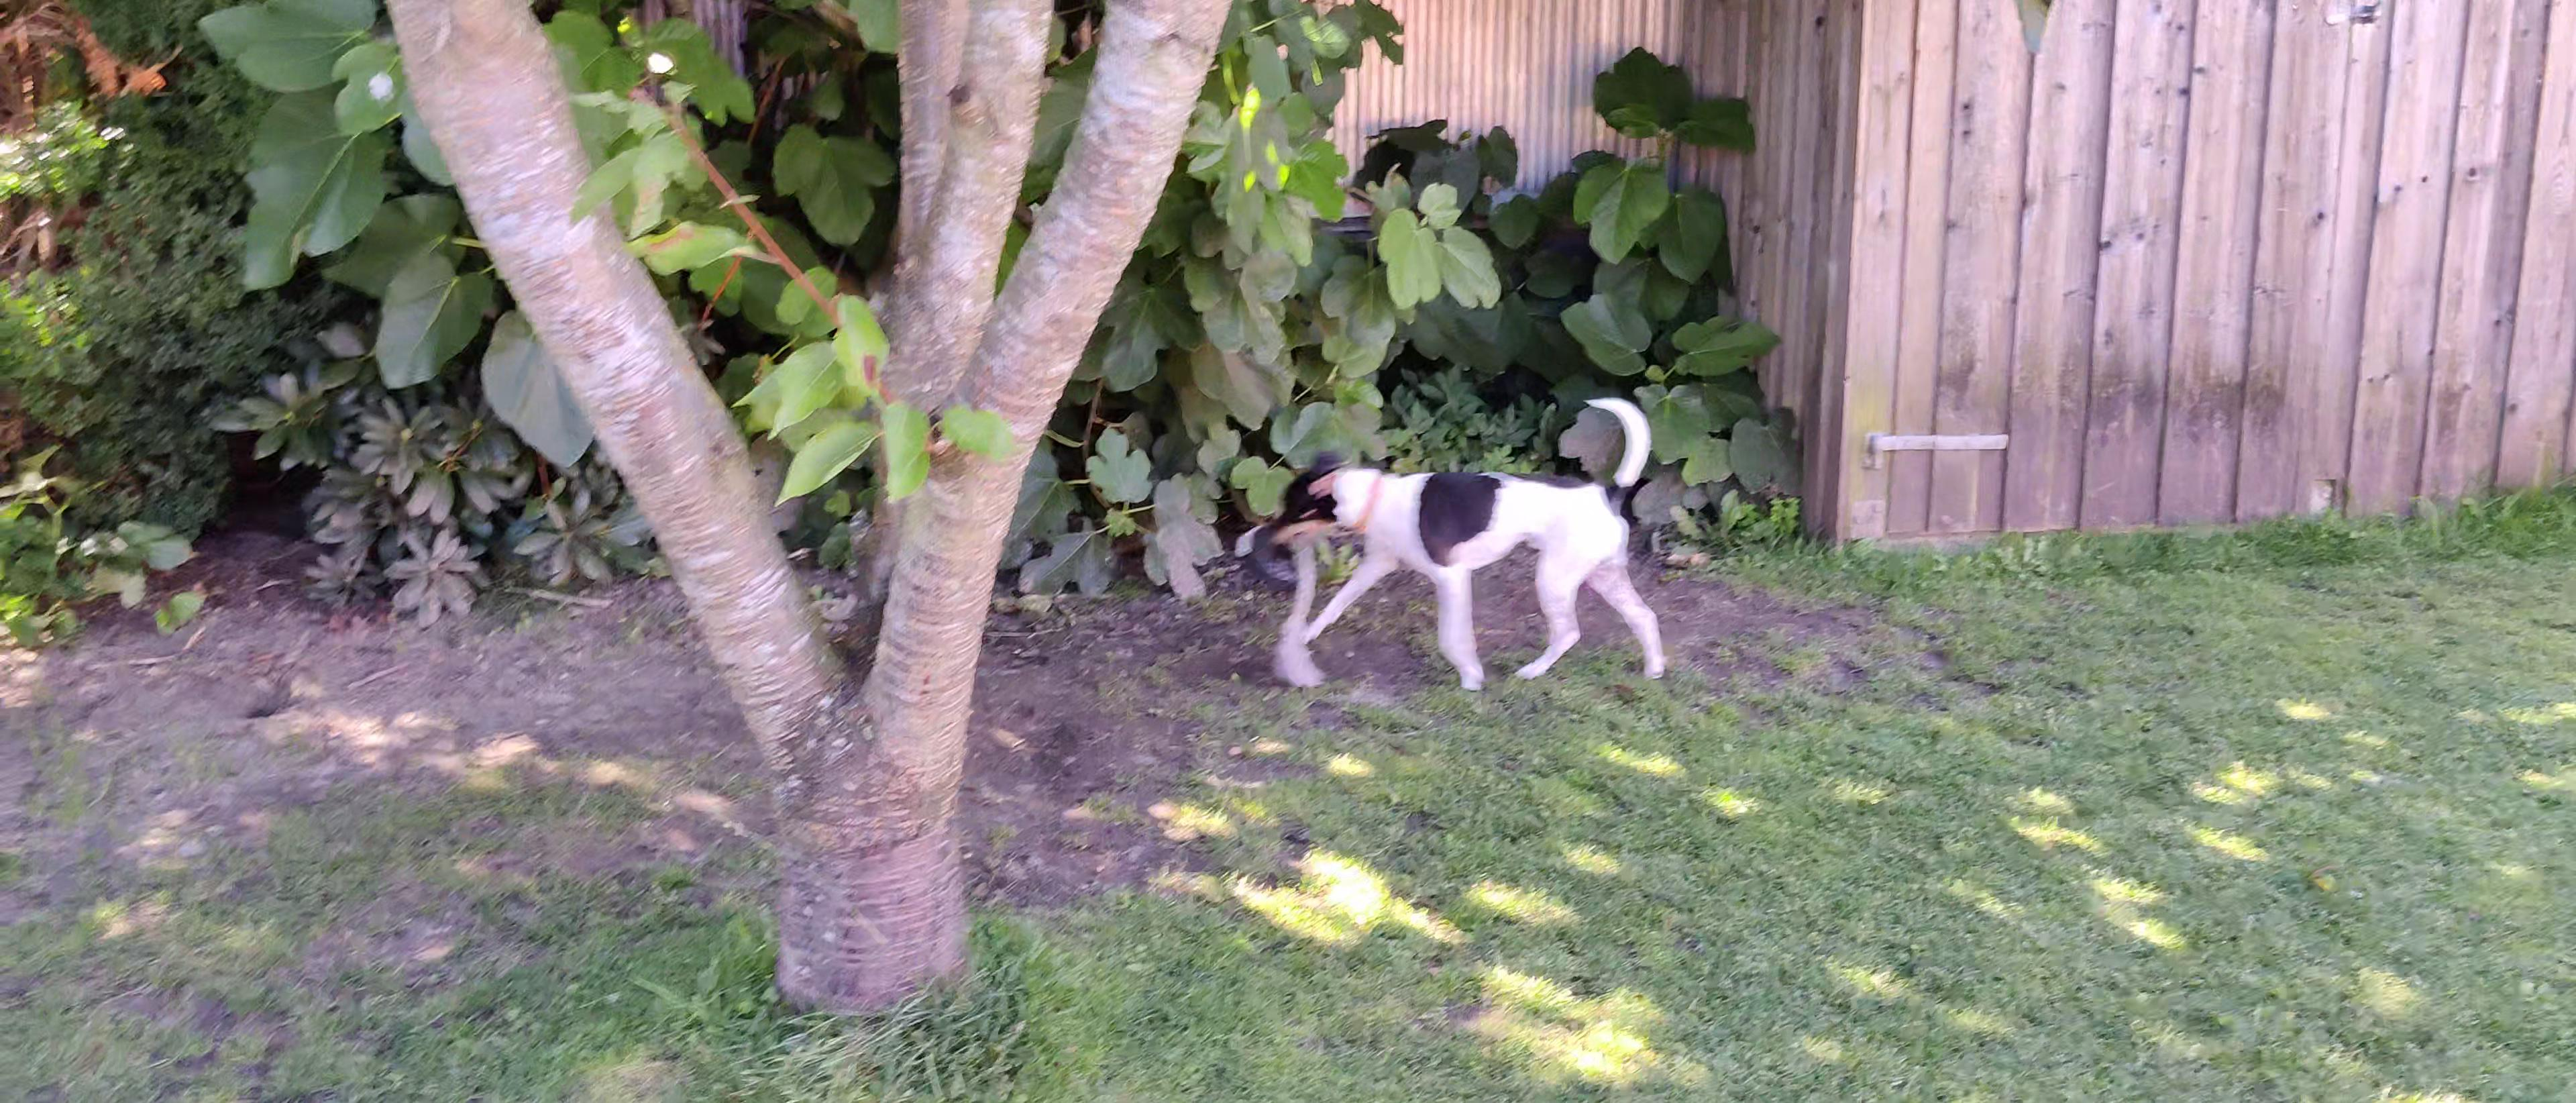Dog: (1258, 391, 1672, 697)
